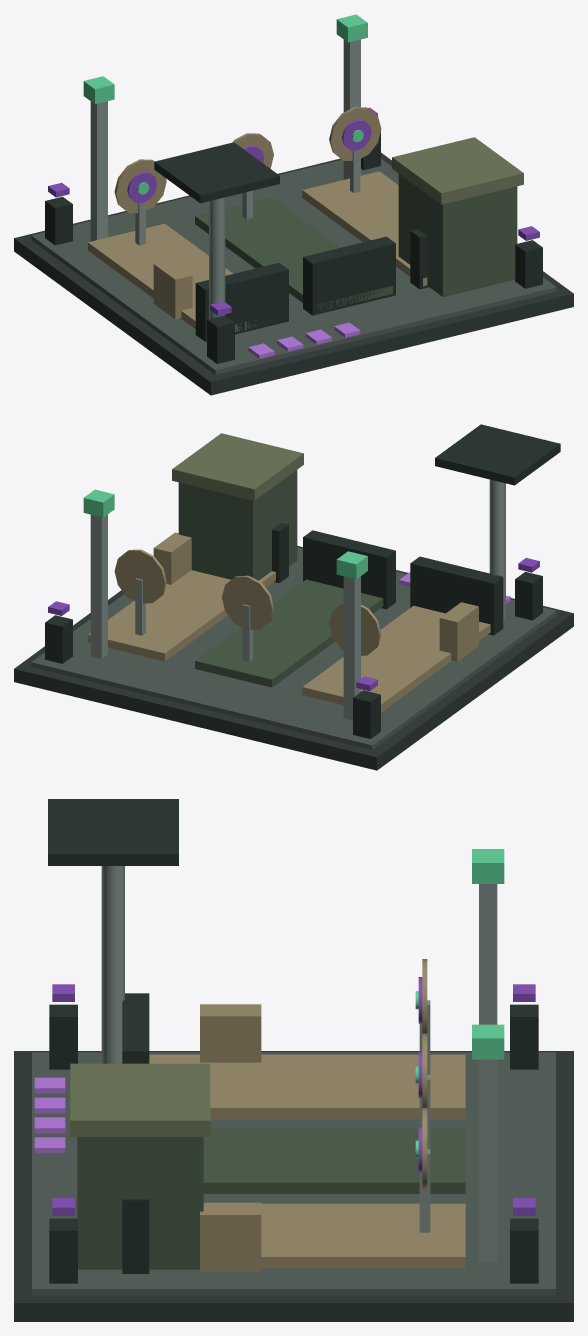
The model's file is ridgewatch_l04.glb.
3 views of the same model, one above another, from view 1: azimuth 30°, elevation 25°; view 2: azimuth 150°, elevation 25°; view 3: azimuth 270°, elevation 25° (orthographic). The views are drawn at different scales.
Visible parts, largest first — view 1: ridgewatch_l04; view 2: ridgewatch_l04; view 3: ridgewatch_l04.
Part boxes in pixels (left/top/right/bottom): ridgewatch_l04: left=14, top=14, right=573, bottom=395; ridgewatch_l04: left=14, top=424, right=573, bottom=770; ridgewatch_l04: left=14, top=799, right=573, bottom=1321.
Size of the model in its own units: 6.6 by 3.32 by 6.2.
